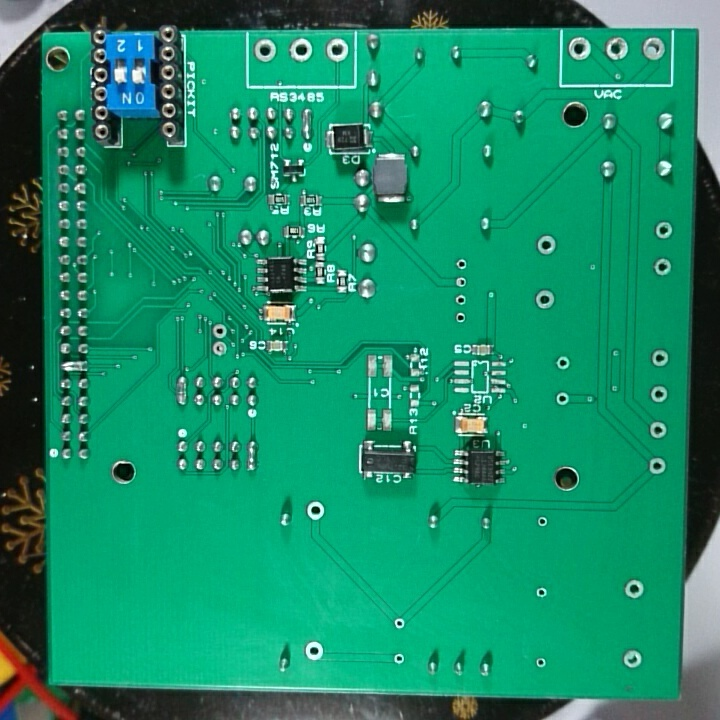F: (603, 32, 630, 64), (287, 36, 315, 66), (639, 35, 666, 65), (324, 35, 350, 66), (252, 35, 279, 64), (567, 35, 593, 64), (533, 287, 559, 312), (620, 646, 644, 673), (304, 499, 327, 526), (302, 638, 326, 663), (536, 231, 557, 259), (623, 575, 645, 601), (650, 347, 672, 370), (652, 255, 673, 278), (648, 420, 671, 441), (647, 455, 667, 479), (648, 383, 670, 404), (553, 352, 574, 374), (654, 217, 673, 240), (533, 583, 552, 605), (210, 338, 230, 358), (554, 390, 572, 411), (210, 322, 229, 340), (453, 290, 470, 307), (453, 255, 470, 272), (391, 649, 405, 669), (453, 274, 470, 290), (392, 615, 407, 632), (533, 653, 547, 671), (536, 515, 550, 532), (453, 309, 467, 326)
P: (172, 373, 191, 409), (245, 437, 259, 477), (299, 105, 315, 140), (59, 359, 91, 375)
